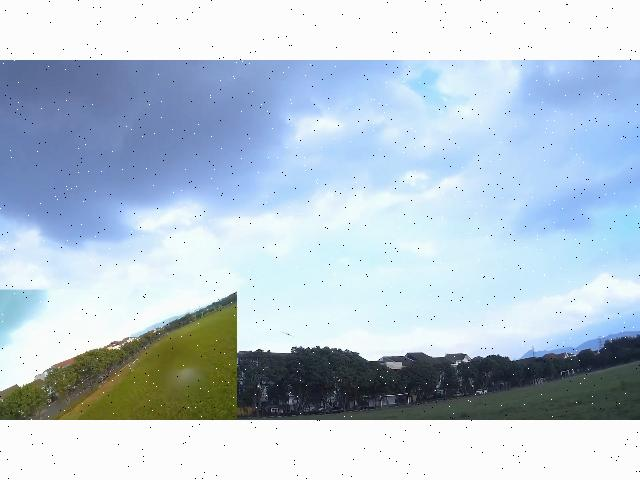Anti-Drone: (271, 320, 307, 348)
